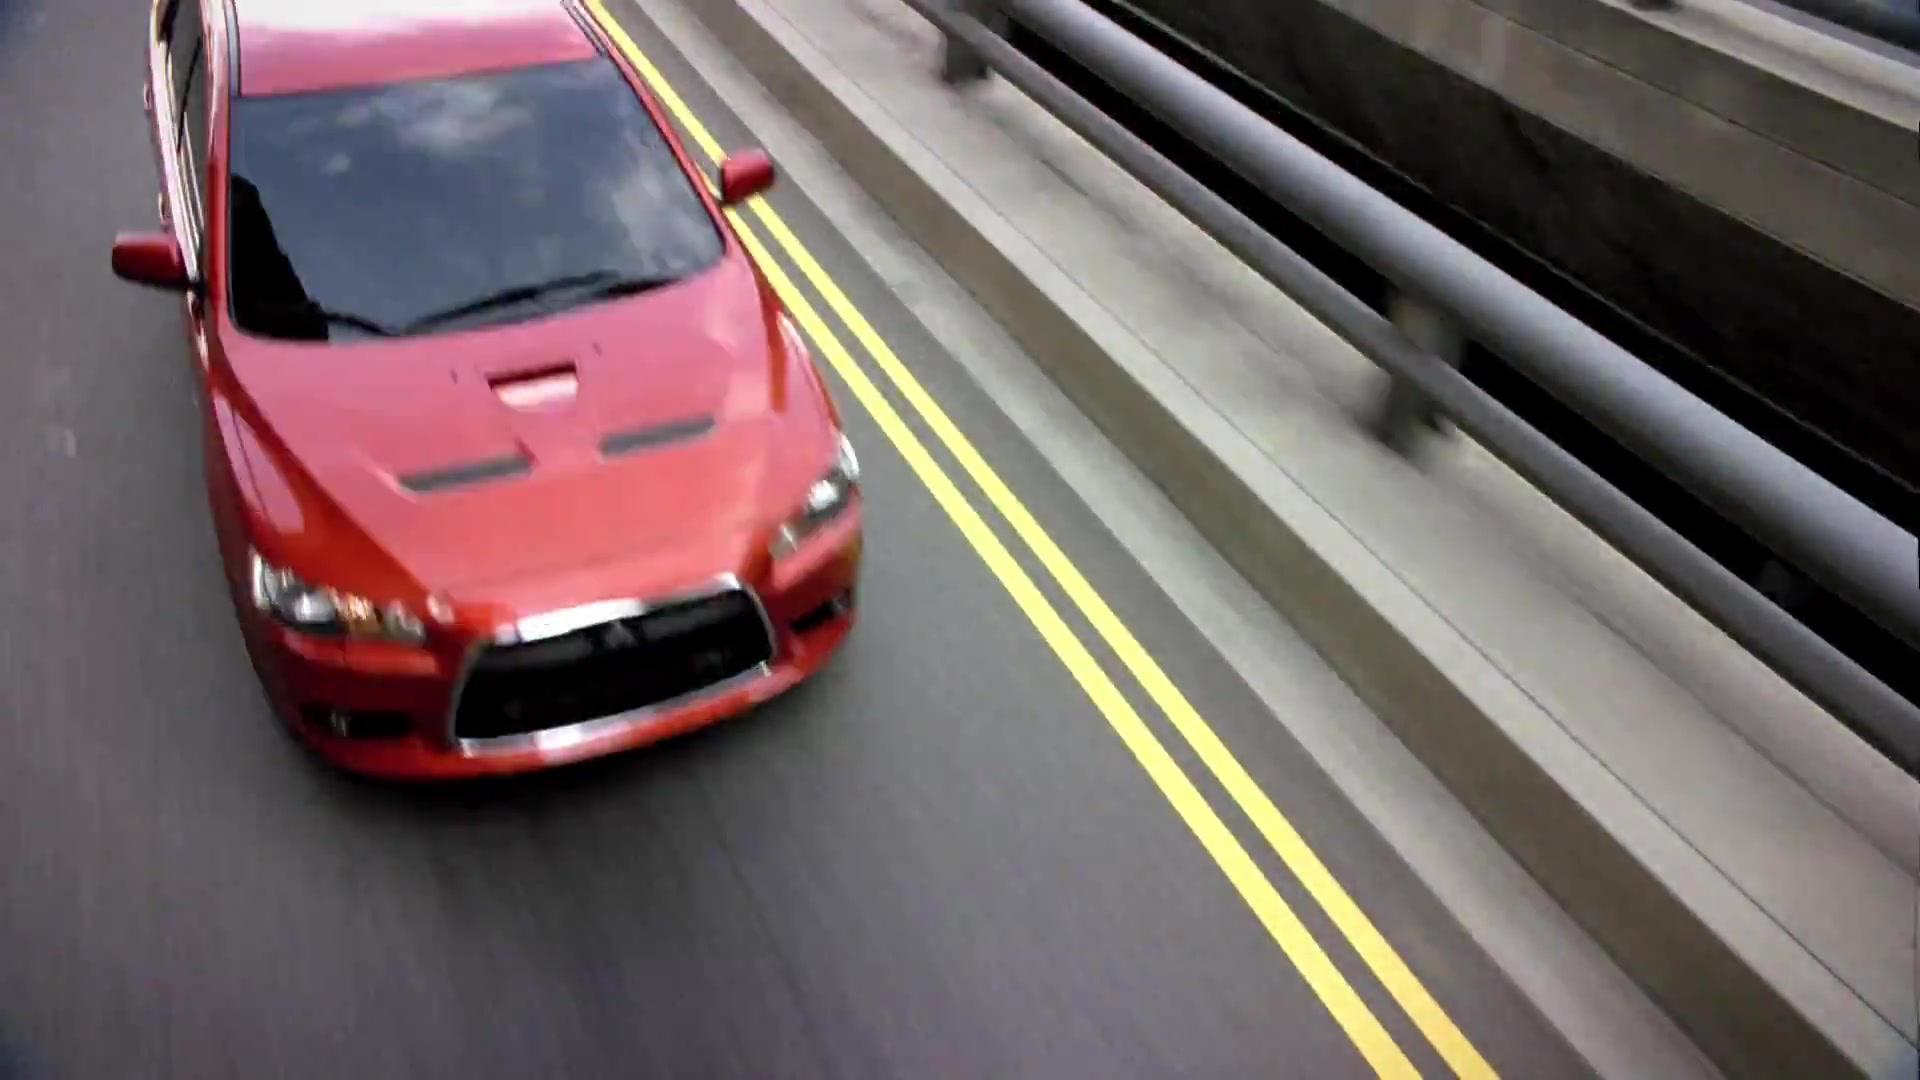car: (96, 1, 876, 806)
